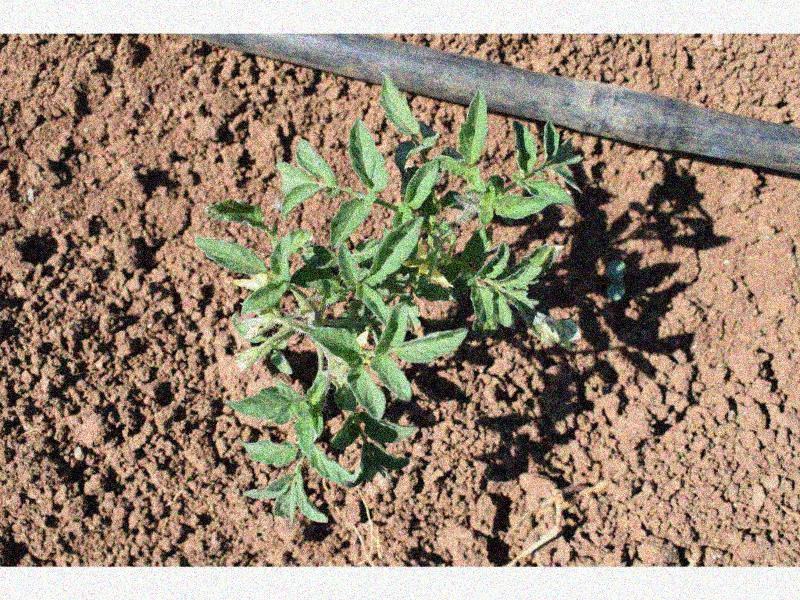tomato: (194, 72, 585, 521)
